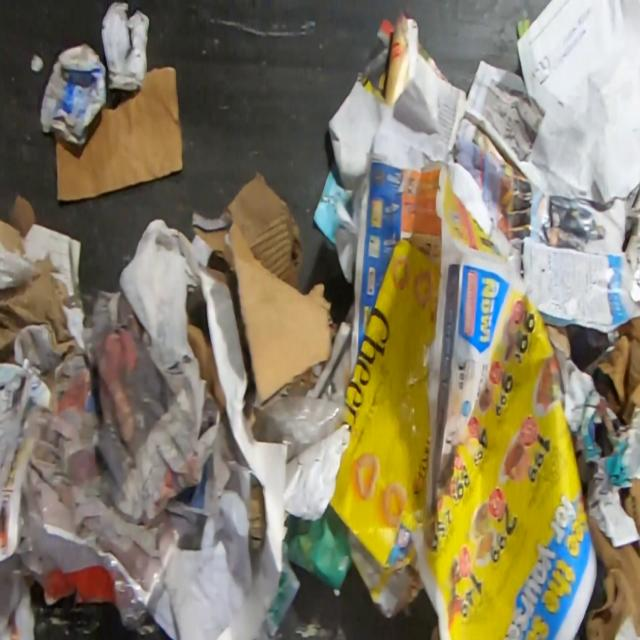cardboard: (328, 236, 442, 622), (190, 169, 335, 435), (54, 64, 184, 203), (262, 503, 354, 637), (0, 257, 76, 364), (37, 39, 108, 144), (584, 515, 640, 640), (591, 316, 640, 425), (98, 0, 150, 90), (187, 321, 226, 415), (0, 191, 38, 257), (543, 323, 572, 370), (248, 481, 266, 554)
soft_plastic: (253, 388, 346, 461), (103, 551, 169, 633), (0, 553, 22, 639)
